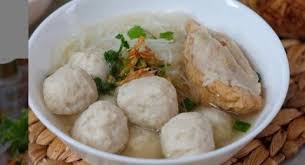bakso: (34, 34, 261, 158)
